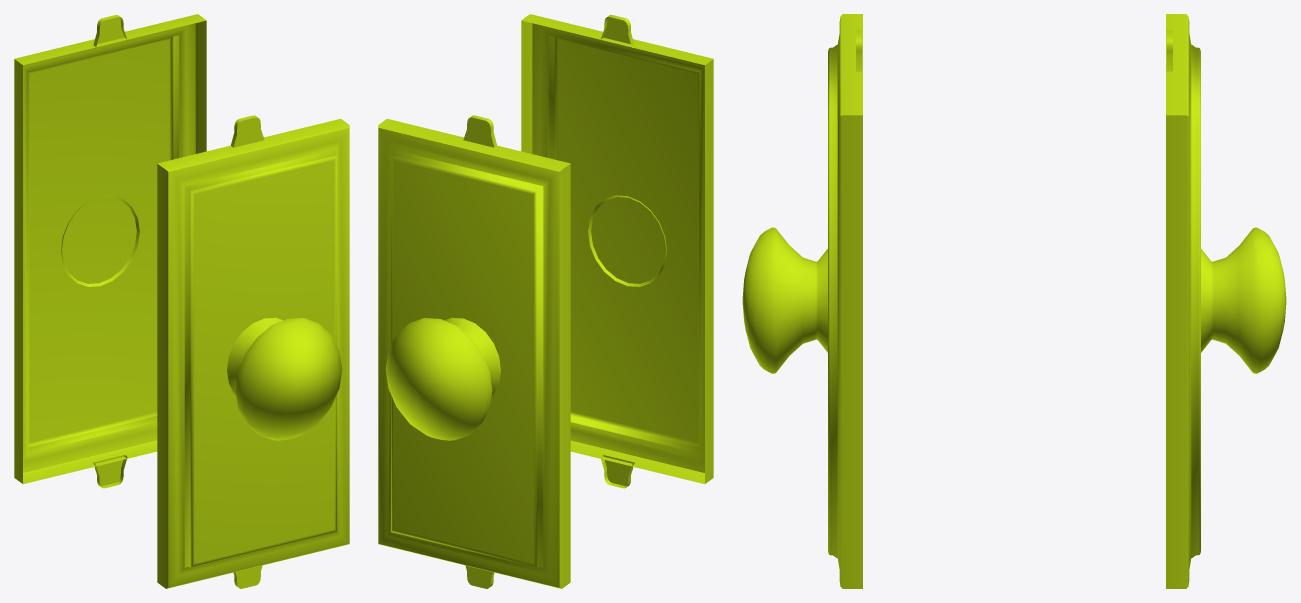
Rendered from DOORKNOB.fbx.
3 renders of one model, left to right at view 1: azimuth 30°, elevation 25°; view 2: azimuth 150°, elevation 25°; view 3: azimuth 270°, elevation 25°, orthographic. The views are drawn at different scales.
Parts seen in each view (by area): view 1: DOORKNOB; view 2: DOORKNOB; view 3: DOORKNOB.
Part boxes in pixels (x1,y1,x2,y2): DOORKNOB: (14, 14, 349, 588); DOORKNOB: (378, 14, 713, 588); DOORKNOB: (742, 14, 1286, 588).
Size of the model in its own units: 0.0917 by 0.2234 by 0.2082.
